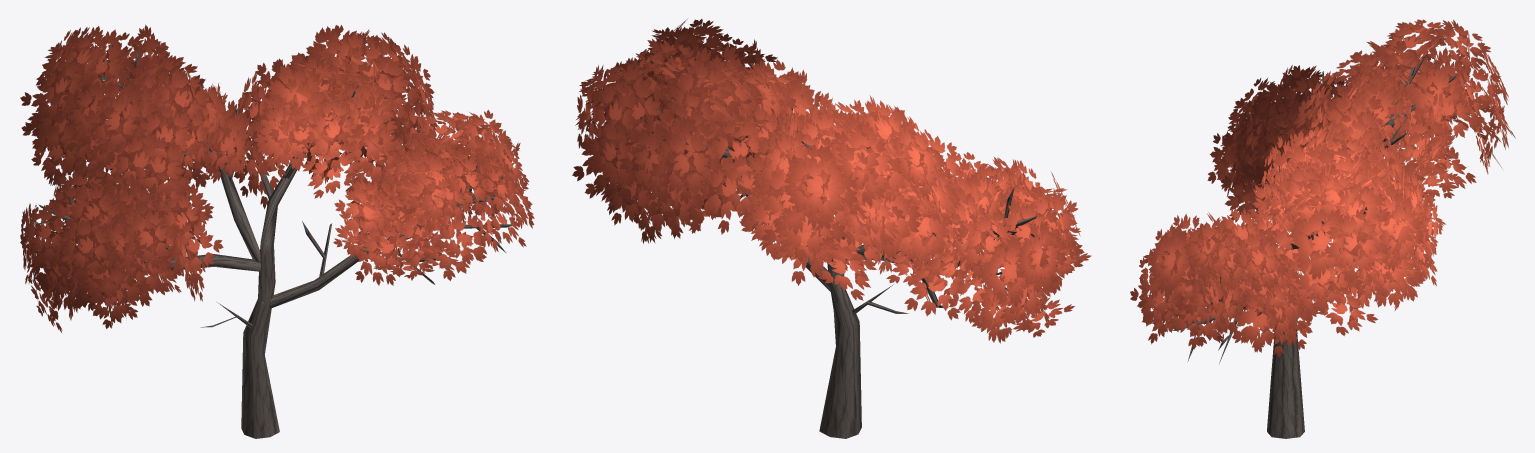
File: MapleTree_3_LOD.glb
The picture shows the model from 3 angles, left to right: view 1: azimuth 30°, elevation 25°; view 2: azimuth 150°, elevation 25°; view 3: azimuth 270°, elevation 25°; orthographic projection. The views are drawn at different scales.
Parts seen in each view (by area): view 1: MapleTree_3; view 2: MapleTree_3; view 3: MapleTree_3.
Boxes of the visible parts, <box> form: MapleTree_3: <box>20,24,534,438</box>; MapleTree_3: <box>572,19,1091,438</box>; MapleTree_3: <box>1130,19,1515,438</box>.
Size of the model in its own units: 8.84 by 6.99 by 6.61.
2 materials, 2 textured.
